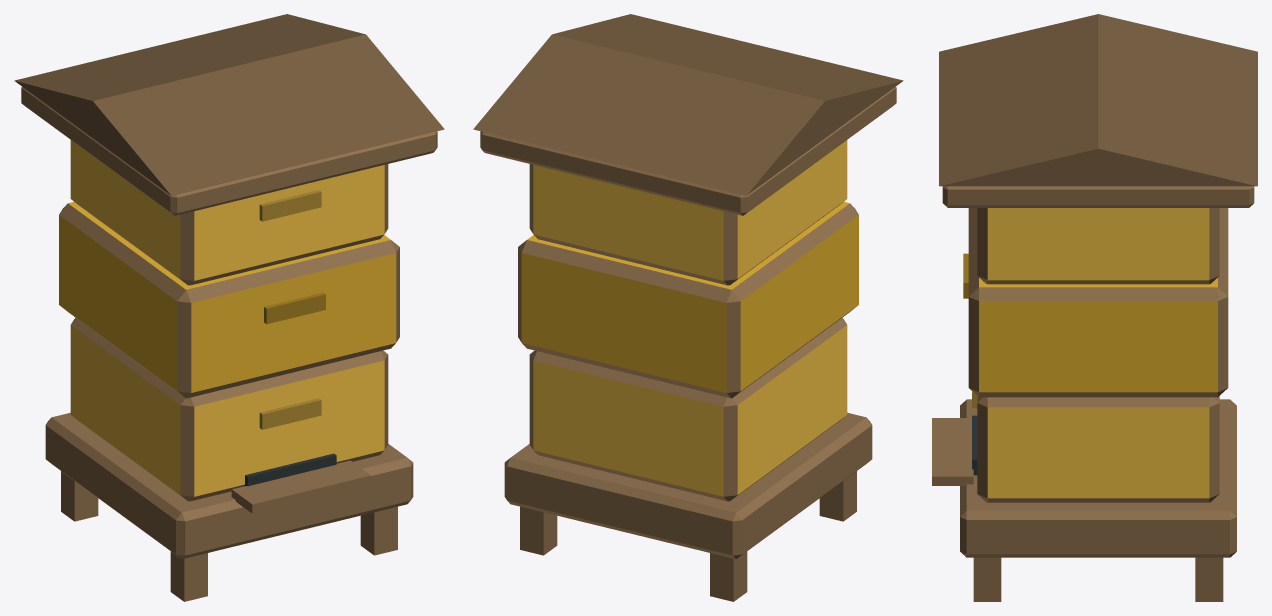
The model's file is beehive.glb.
3 views of the same model, side by side, from view 1: azimuth 30°, elevation 25°; view 2: azimuth 150°, elevation 25°; view 3: azimuth 270°, elevation 25° (orthographic).
Visible parts, largest first — view 1: beehive-m; view 2: beehive-m; view 3: beehive-m.
Boxes of the visible parts, <box> form: beehive-m: <box>14,14,444,601</box>; beehive-m: <box>473,14,903,601</box>; beehive-m: <box>932,14,1257,601</box>.
Size of the model in its own units: 0.92 by 1.49 by 0.94.
